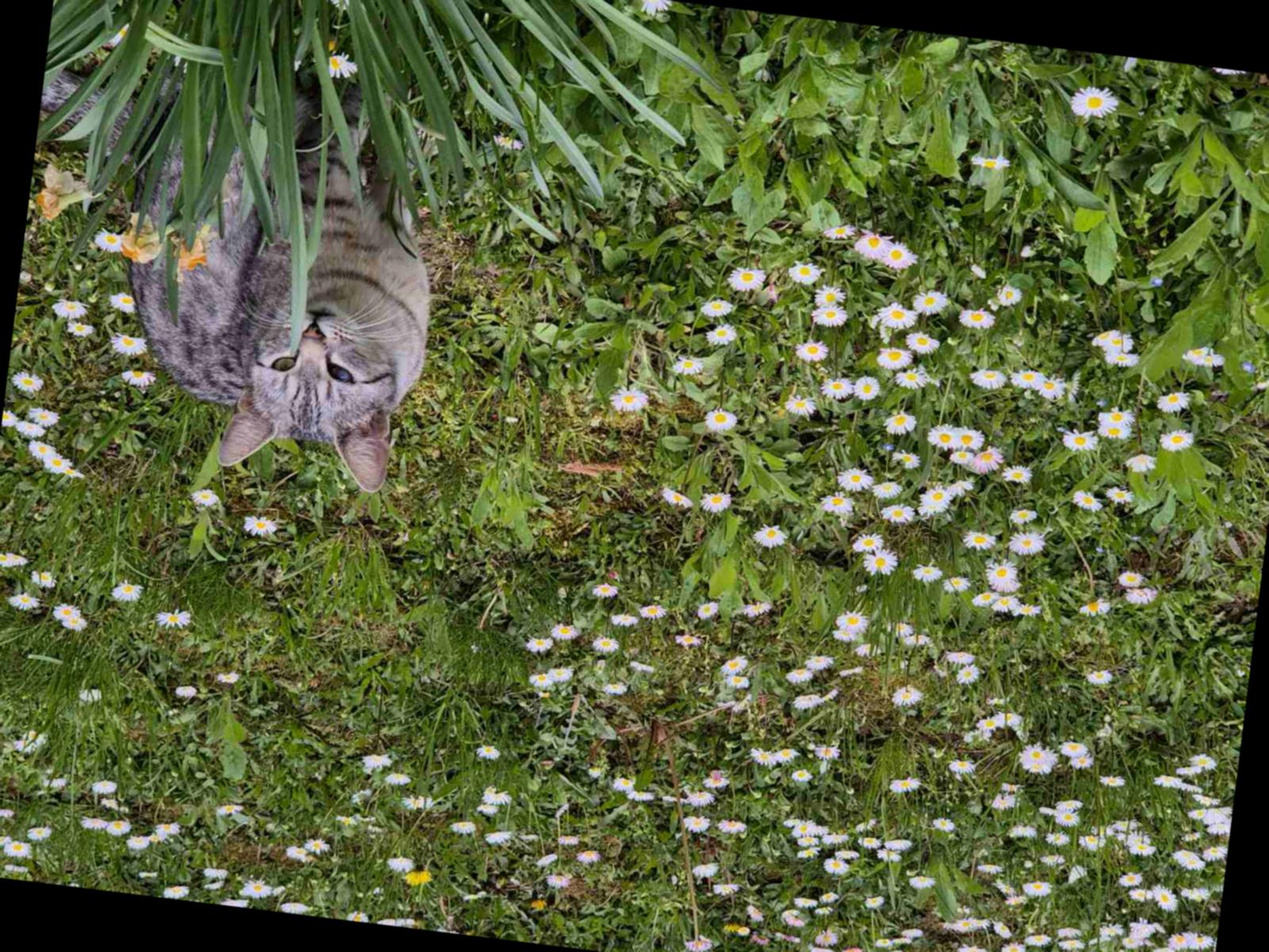macka: (0, 0, 466, 499)
